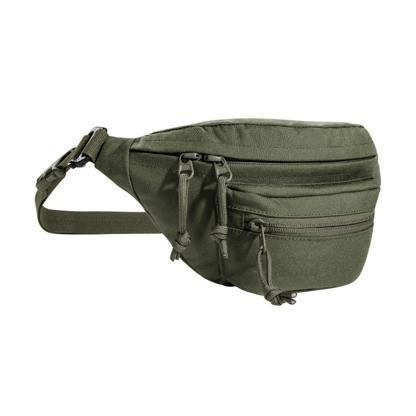not trash: (29, 117, 380, 312)
